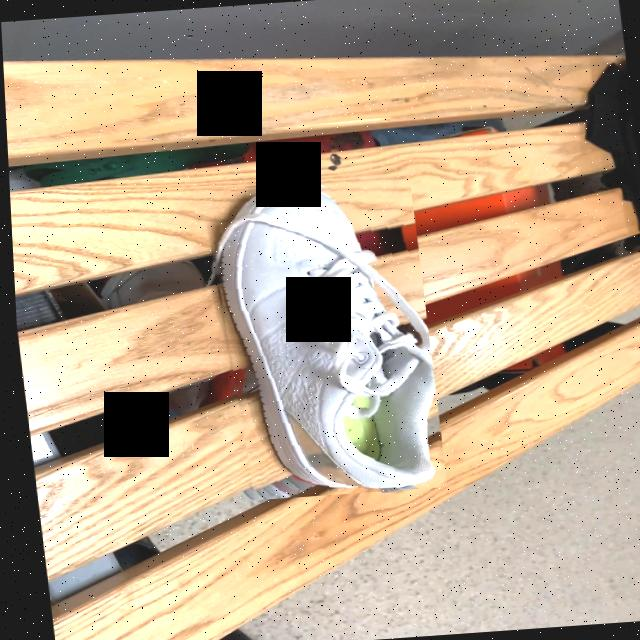shoe: (211, 186, 431, 491)
